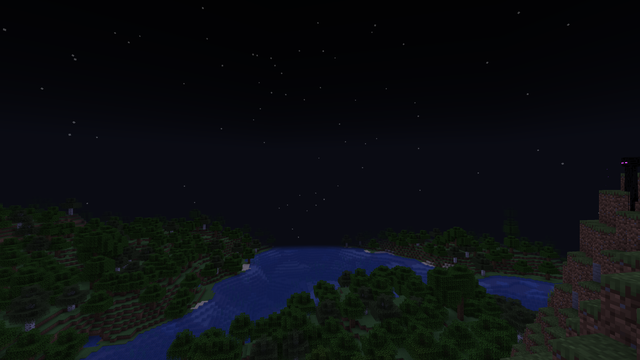endermens: (619, 155, 639, 211)
